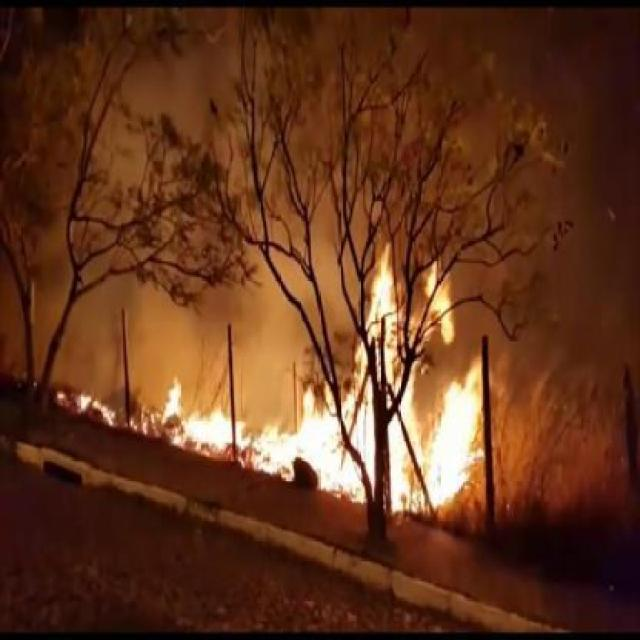Fire: (148, 239, 492, 501), (78, 391, 117, 426)
